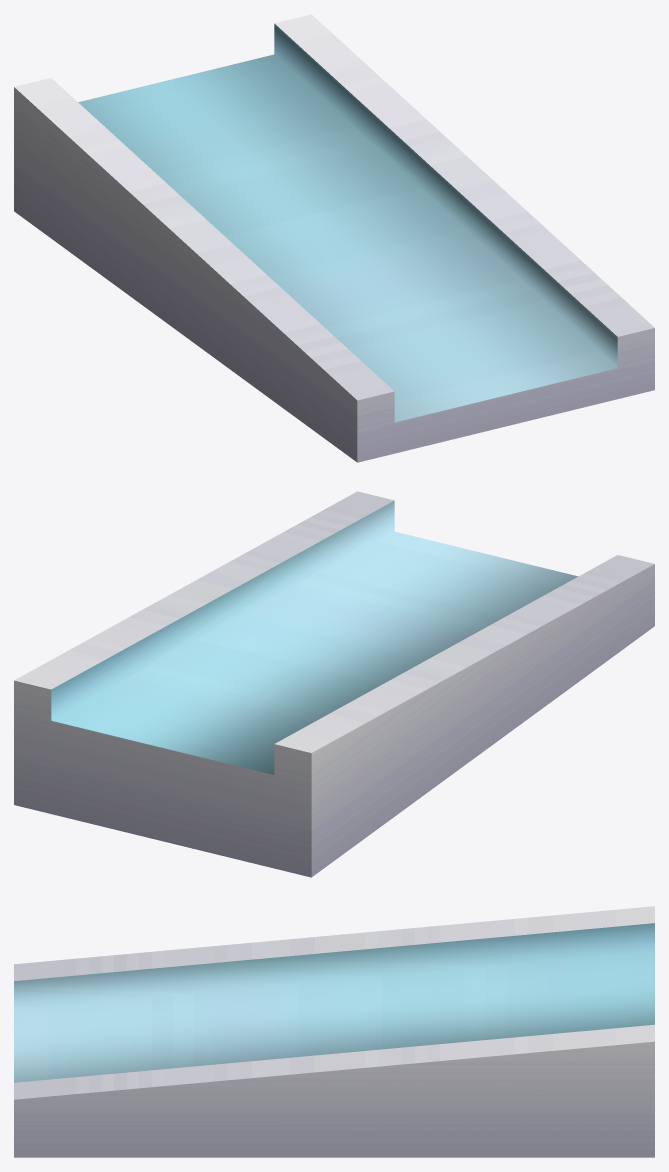
The model's file is snow-tile-straight-slope-large.glb.
3 renders of one model, top to bottom at view 1: azimuth 30°, elevation 25°; view 2: azimuth 150°, elevation 25°; view 3: azimuth 270°, elevation 25°, orthographic. The views are drawn at different scales.
Visible parts, largest first — view 1: snow-tile-straight-slope-large; view 2: snow-tile-straight-slope-large; view 3: snow-tile-straight-slope-large.
Boxes of the visible parts, <box> form: snow-tile-straight-slope-large: <box>14,14,654,462</box>; snow-tile-straight-slope-large: <box>14,491,654,877</box>; snow-tile-straight-slope-large: <box>14,906,654,1157</box>.
Size of the model in its own units: 1 by 0.3999 by 2.
Materials: 1 (1 with a texture image).
